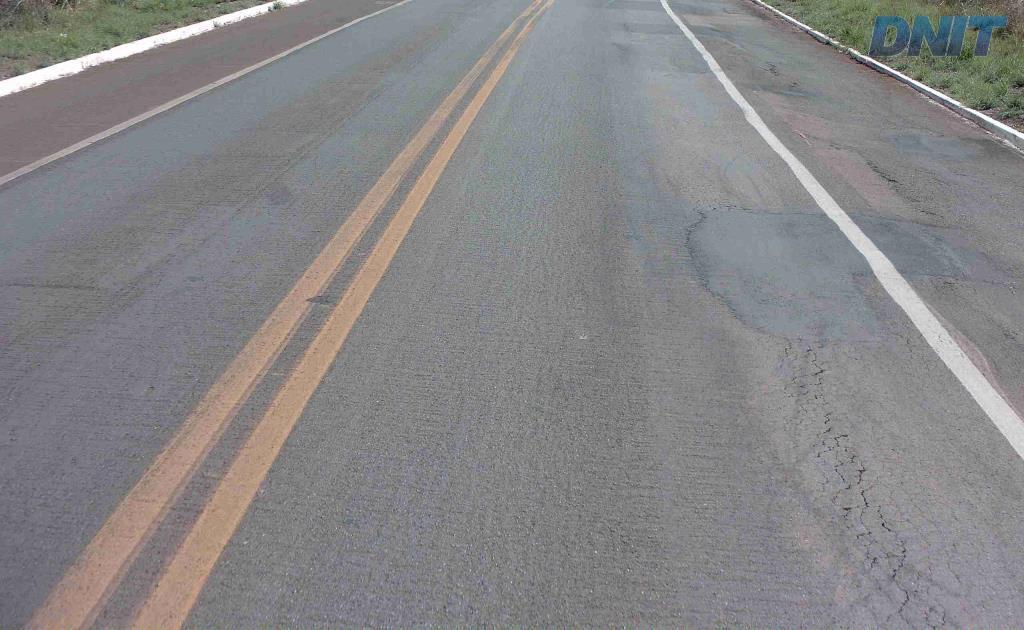crack: (863, 538, 922, 600)
